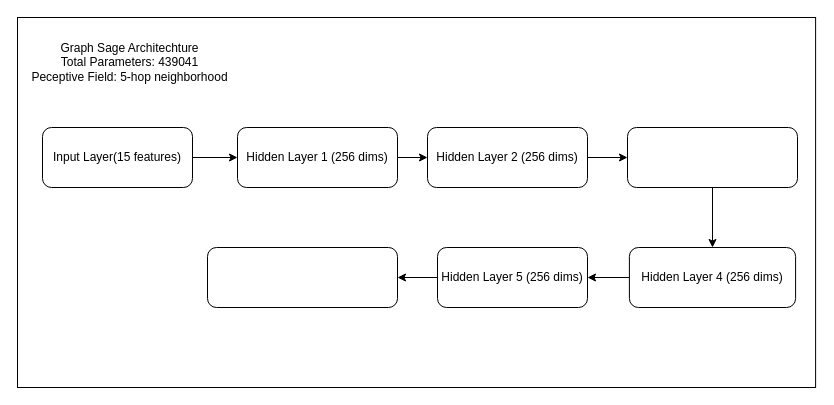
The diagram is 834 pixels wide and 405 high, and some of its shapes have lost their labels. Each missing label, with the centre of its shape:
"Hidden Layer 3 (256 dims)" goes at point 712,157.
"Output (1 dim: tumor probability)" goes at point 302,277.
